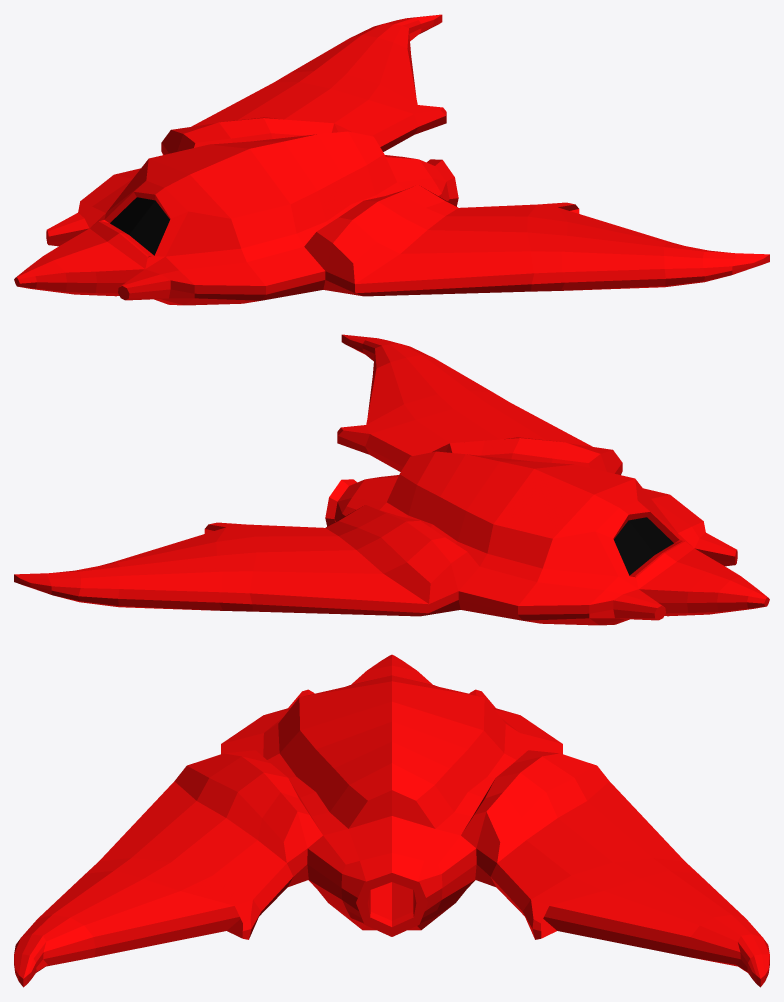
The model's file is Standard.fbx.
3 renders of one model, top to bottom at view 1: azimuth 30°, elevation 25°; view 2: azimuth 150°, elevation 25°; view 3: azimuth 270°, elevation 25°, orthographic. The views are drawn at different scales.
Parts seen in each view (by area): view 1: Cube.001; view 2: Cube.001; view 3: Cube.001.
Boxes of the visible parts, x1=… form: Cube.001: x1=14, y1=14, x2=769, y2=305; Cube.001: x1=14, y1=334, x2=769, y2=625; Cube.001: x1=14, y1=654, x2=769, y2=987.
Size of the model in its own units: 109 by 24.04 by 108.
